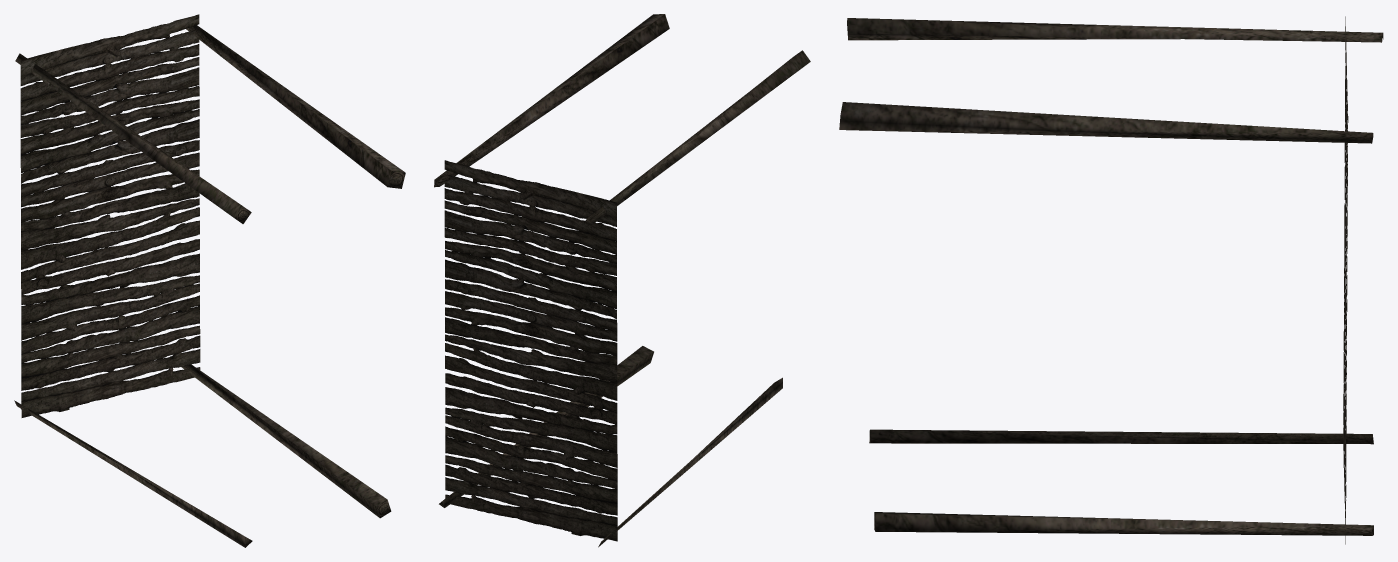
File: MEP_Walk_02_LOD_02.fbx
3 renders of one model, left to right at view 1: azimuth 30°, elevation 25°; view 2: azimuth 150°, elevation 25°; view 3: azimuth 270°, elevation 25°, orthographic. The views are drawn at different scales.
Visible parts, largest first — view 1: MEP_Walk_02_LOD_02; view 2: MEP_Walk_02_LOD_02; view 3: MEP_Walk_02_LOD_02.
Part boxes in pixels (bbox=[...]): MEP_Walk_02_LOD_02: bbox=[14, 14, 405, 547]; MEP_Walk_02_LOD_02: bbox=[434, 14, 810, 547]; MEP_Walk_02_LOD_02: bbox=[839, 16, 1383, 544].
Bounding box in the file's own units: 2.71 × 5.23 × 5.92.
